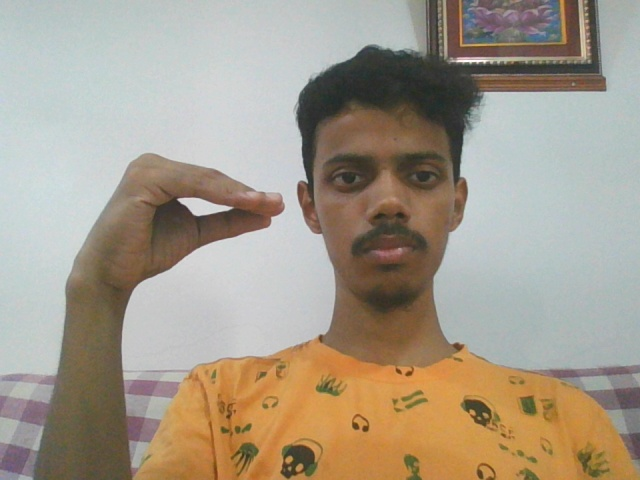No: (67, 153, 286, 289)
